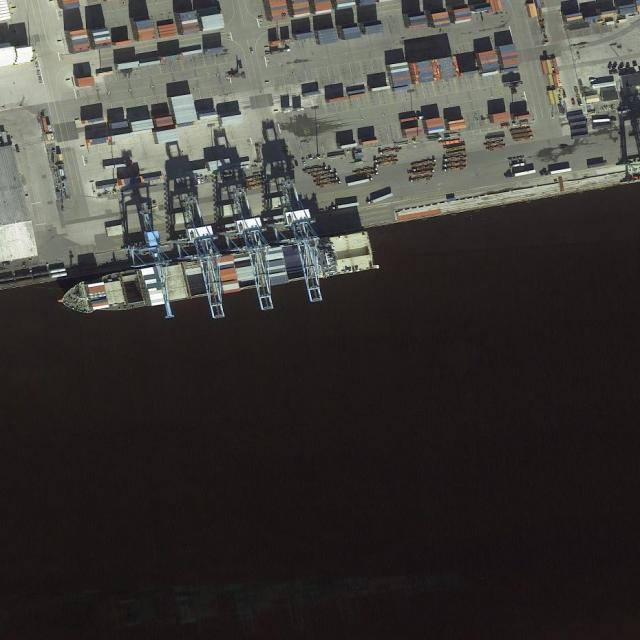Container Ship: (52, 226, 382, 321)
